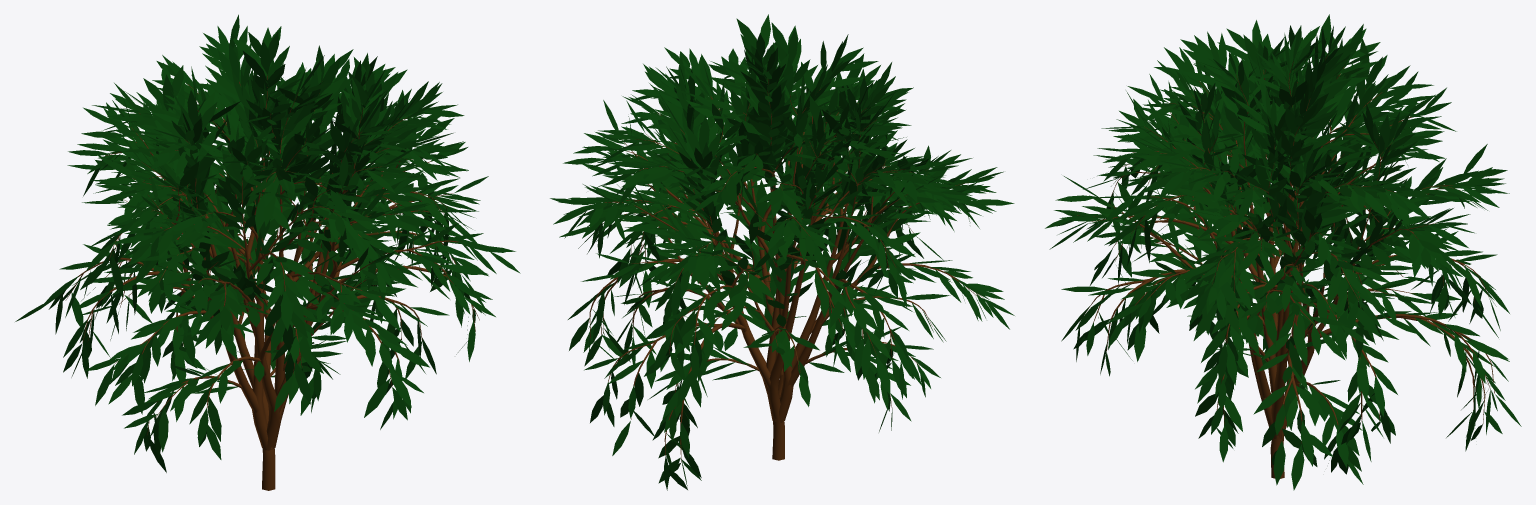
The model's file is tree.fbx.
3 renders of one model, left to right at view 1: azimuth 30°, elevation 25°; view 2: azimuth 150°, elevation 25°; view 3: azimuth 270°, elevation 25°, orthographic. The views are drawn at different scales.
Visible parts, largest first — view 1: leaves; view 2: leaves; view 3: leaves.
Part boxes in pixels (left/top/right/bottom): leaves: left=15, top=14, right=520, bottom=490; leaves: left=550, top=14, right=1014, bottom=490; leaves: left=1045, top=14, right=1521, bottom=490.
Bounding box in the file's own units: 673 × 679 × 653.
